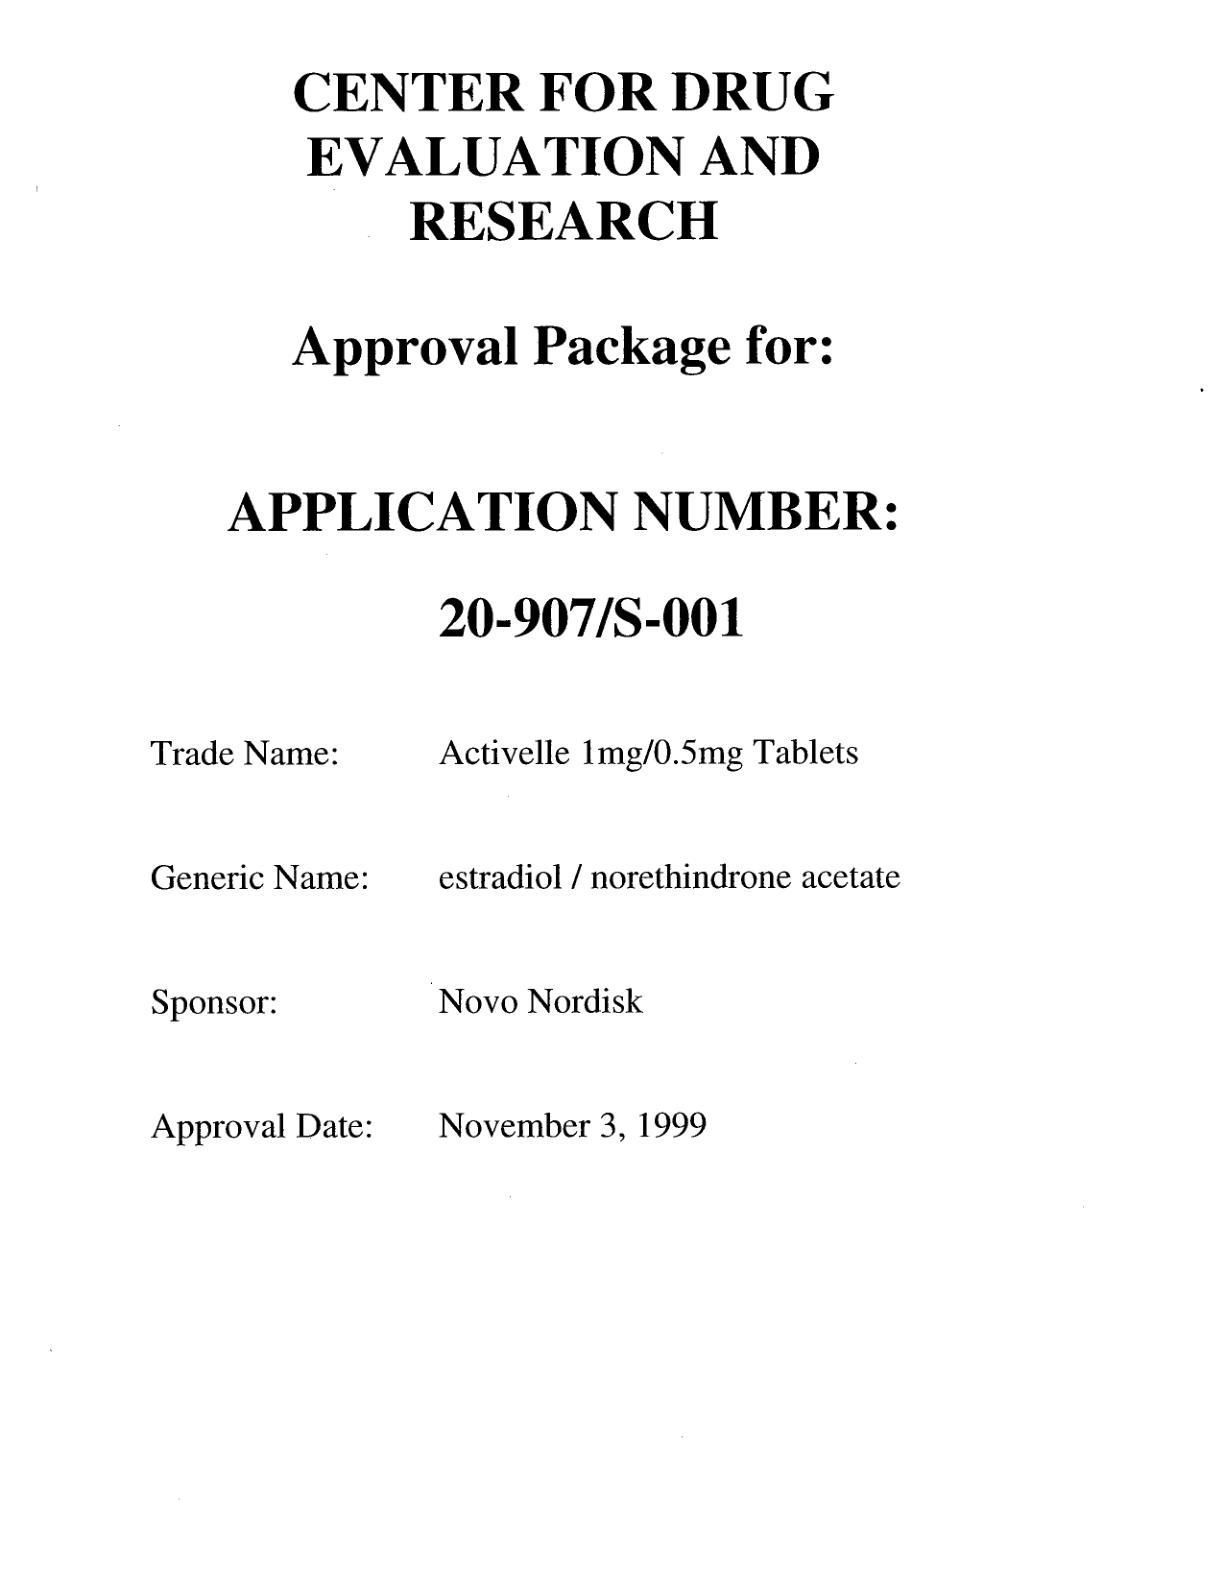nolines: (149, 735, 903, 1147)
